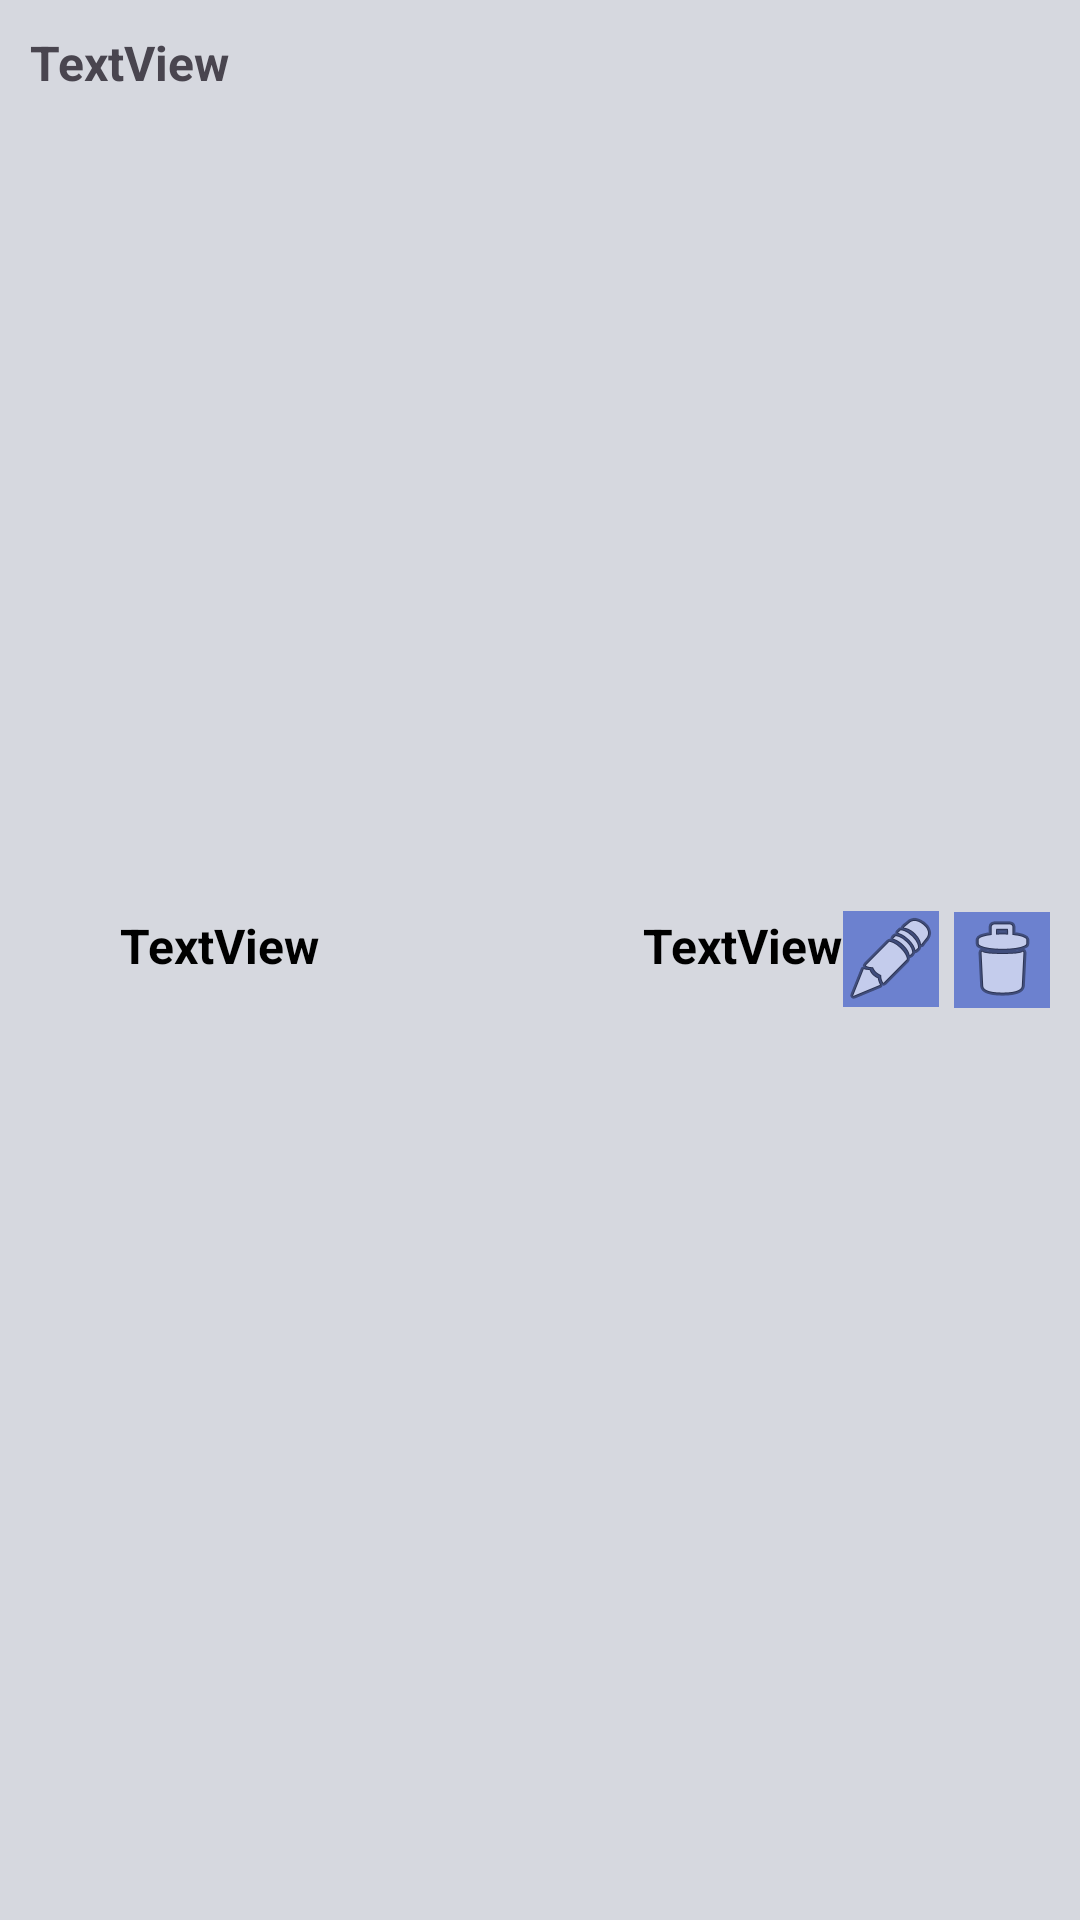

Where icons sit on this 1080w x 1920h app screen, as (x1, y1, x2, y2):
delete: (954, 912, 1050, 1008)
edit: (843, 911, 939, 1007)
